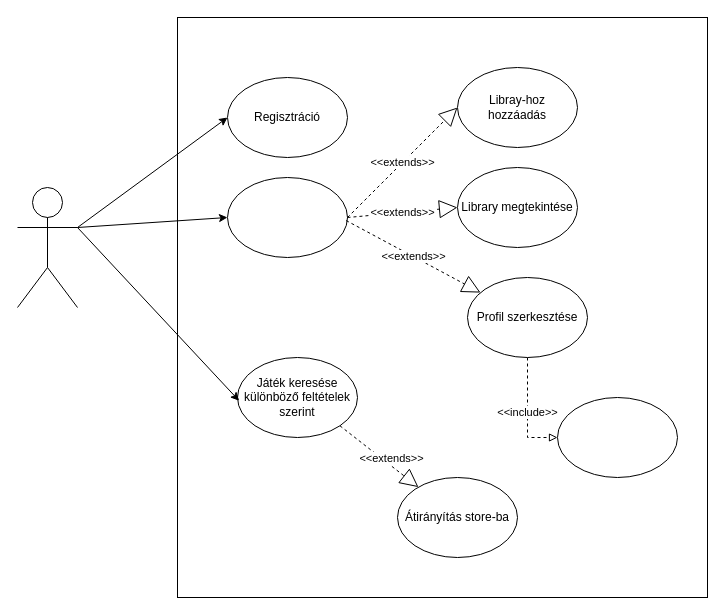
This 725x615 diagram has some shape labels left out. The box of each missing label's shape, as (x1, y1, x2, y2) in pixels:
Actor: (16, 186, 78, 308)
Belépés: (226, 176, 348, 258)
Library-k szinkronizálása: (556, 396, 678, 478)
